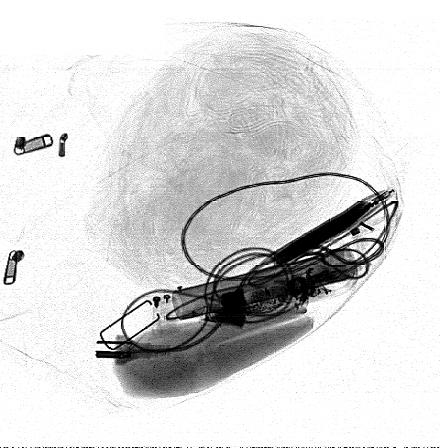Powerbank: (259, 187, 397, 267)
